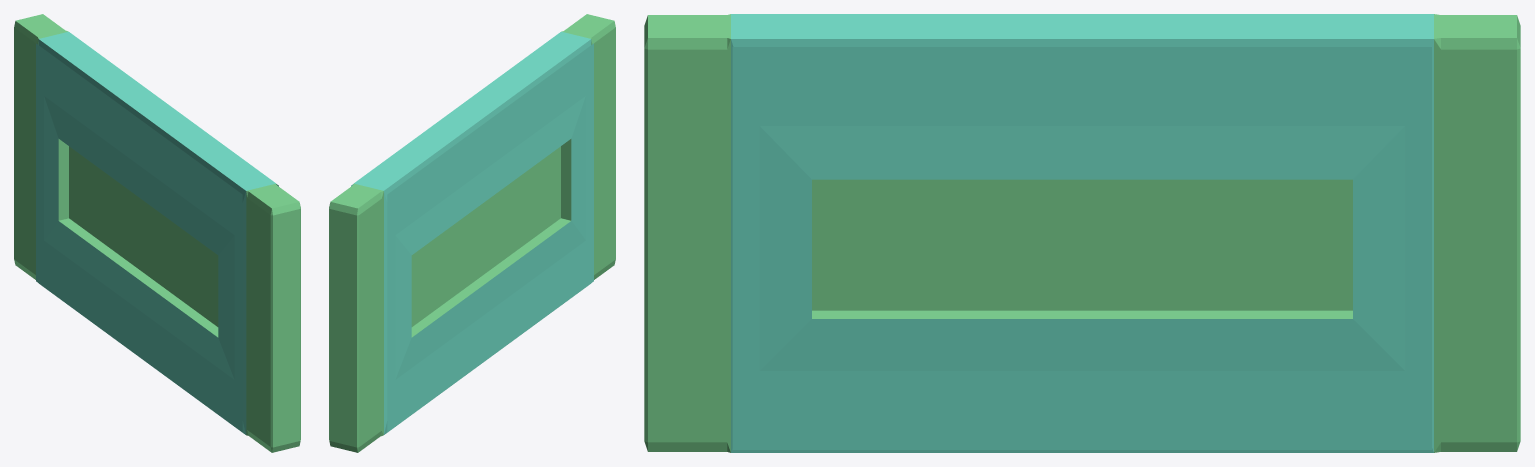
The model's file is ozdobna ściana.fbx.
3 renders of one model, left to right at view 1: azimuth 30°, elevation 25°; view 2: azimuth 150°, elevation 25°; view 3: azimuth 270°, elevation 25°, orthographic. The views are drawn at different scales.
Visible parts, largest first — view 1: Cube; view 2: Cube; view 3: Cube.
Boxes of the visible parts, bbox=[...] form: Cube: bbox=[14, 14, 300, 452]; Cube: bbox=[329, 14, 615, 452]; Cube: bbox=[644, 14, 1520, 452].
Size of the model in its own units: 148 by 909 by 1743.
